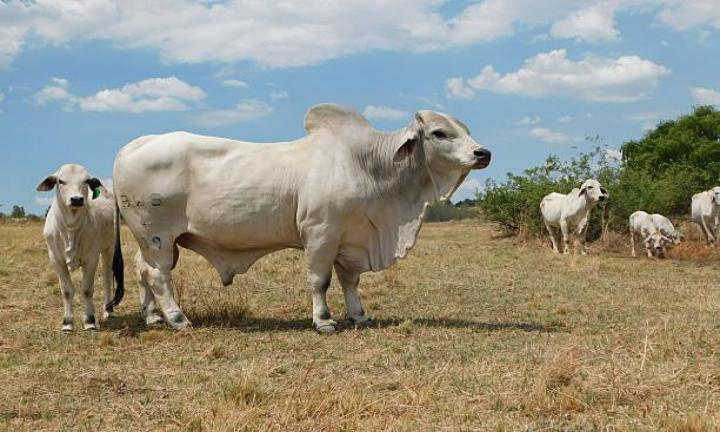Brahman: (113, 104, 489, 330)
